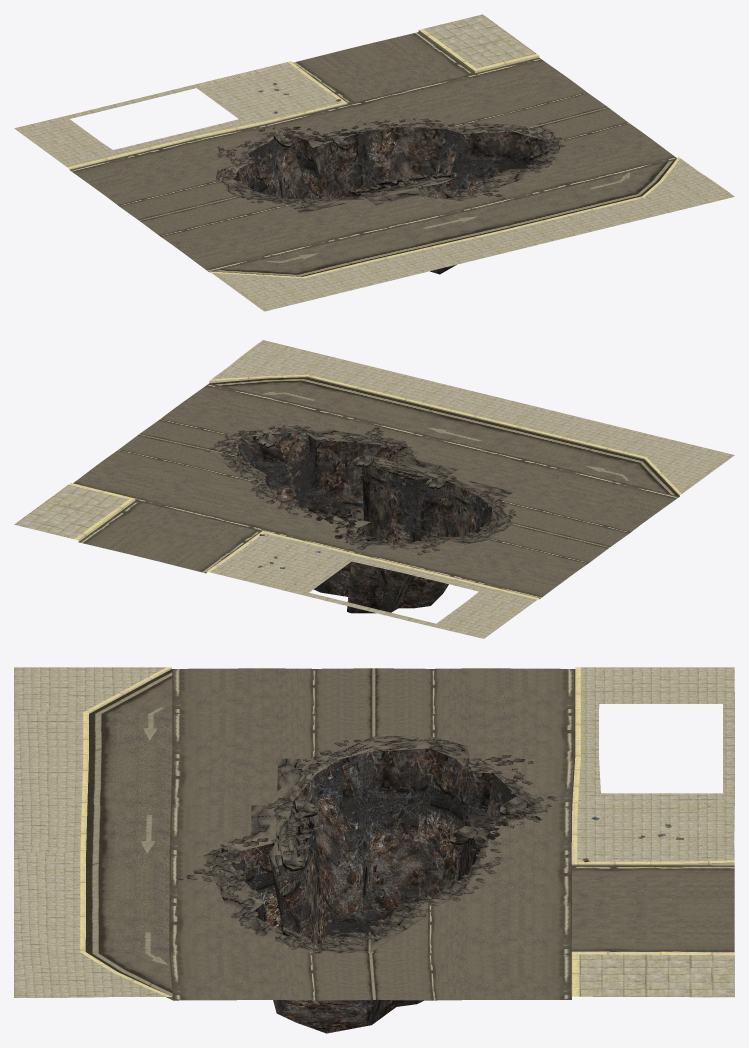
File: Road_Crater.fbx
The picture shows the model from 3 angles, top to bottom: view 1: azimuth 30°, elevation 25°; view 2: azimuth 150°, elevation 25°; view 3: azimuth 270°, elevation 25°; orthographic projection. The views are drawn at different scales.
Visible parts, largest first — view 1: Road_Crack_Part_2, Road_Crack_Part_3, Road_Crack_Part_4, Road_Crack_Part_1; view 2: Road_Crack_Part_3, Road_Crack_Part_1, Road_Crack_Part_4, Road_Crack_Part_2; view 3: Road_Crack_Part_3, Road_Crack_Part_4, Road_Crack_Part_2, Road_Crack_Part_1.
Boxes of the visible parts, left/top/right/bottom form: Road_Crack_Part_2: left=276, top=14, right=607, bottom=195; Road_Crack_Part_3: left=139, top=172, right=525, bottom=311; Road_Crack_Part_4: left=14, top=65, right=368, bottom=220; Road_Crack_Part_1: left=440, top=107, right=734, bottom=274; Road_Crack_Part_3: left=353, top=391, right=734, bottom=547; Road_Crack_Part_1: left=139, top=340, right=471, bottom=520; Road_Crack_Part_4: left=221, top=510, right=609, bottom=638; Road_Crack_Part_2: left=14, top=434, right=320, bottom=591; Road_Crack_Part_3: left=14, top=667, right=374, bottom=944; Road_Crack_Part_4: left=373, top=667, right=734, bottom=926; Road_Crack_Part_2: left=369, top=852, right=734, bottom=1024; Road_Crack_Part_1: left=14, top=851, right=375, bottom=1033.
Size of the model in its own units: 4429 by 809 by 4080.
